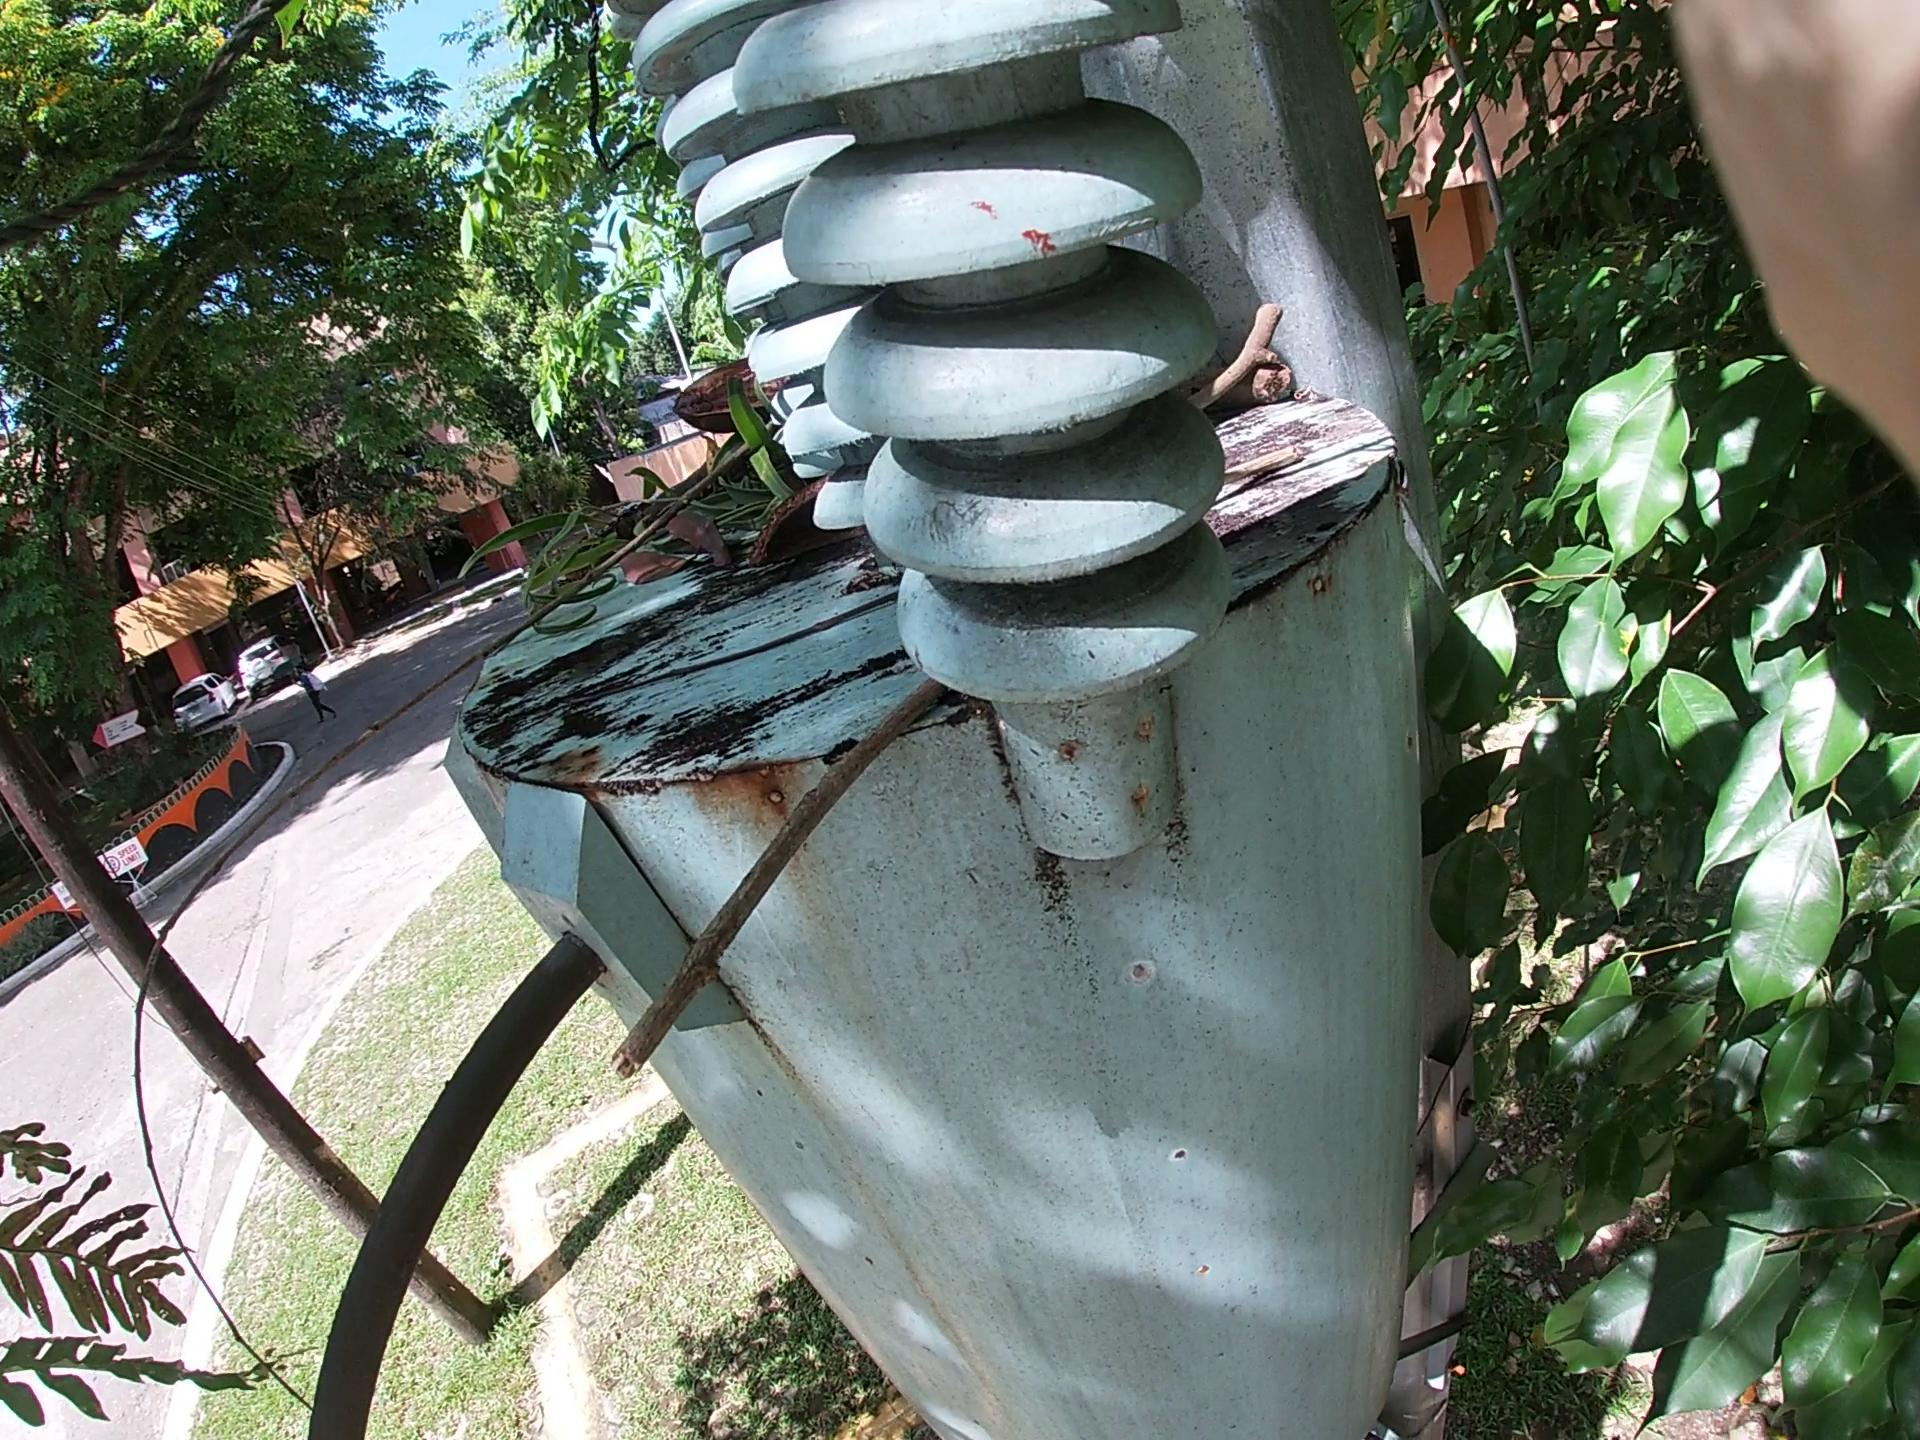branch with leaves: (352, 318, 901, 726)
leaf: (565, 449, 735, 604)
mahogany fruit: (703, 466, 919, 635), (605, 309, 816, 442)
tree branch: (23, 393, 803, 1151), (633, 469, 1125, 1109), (1170, 242, 1293, 449)
